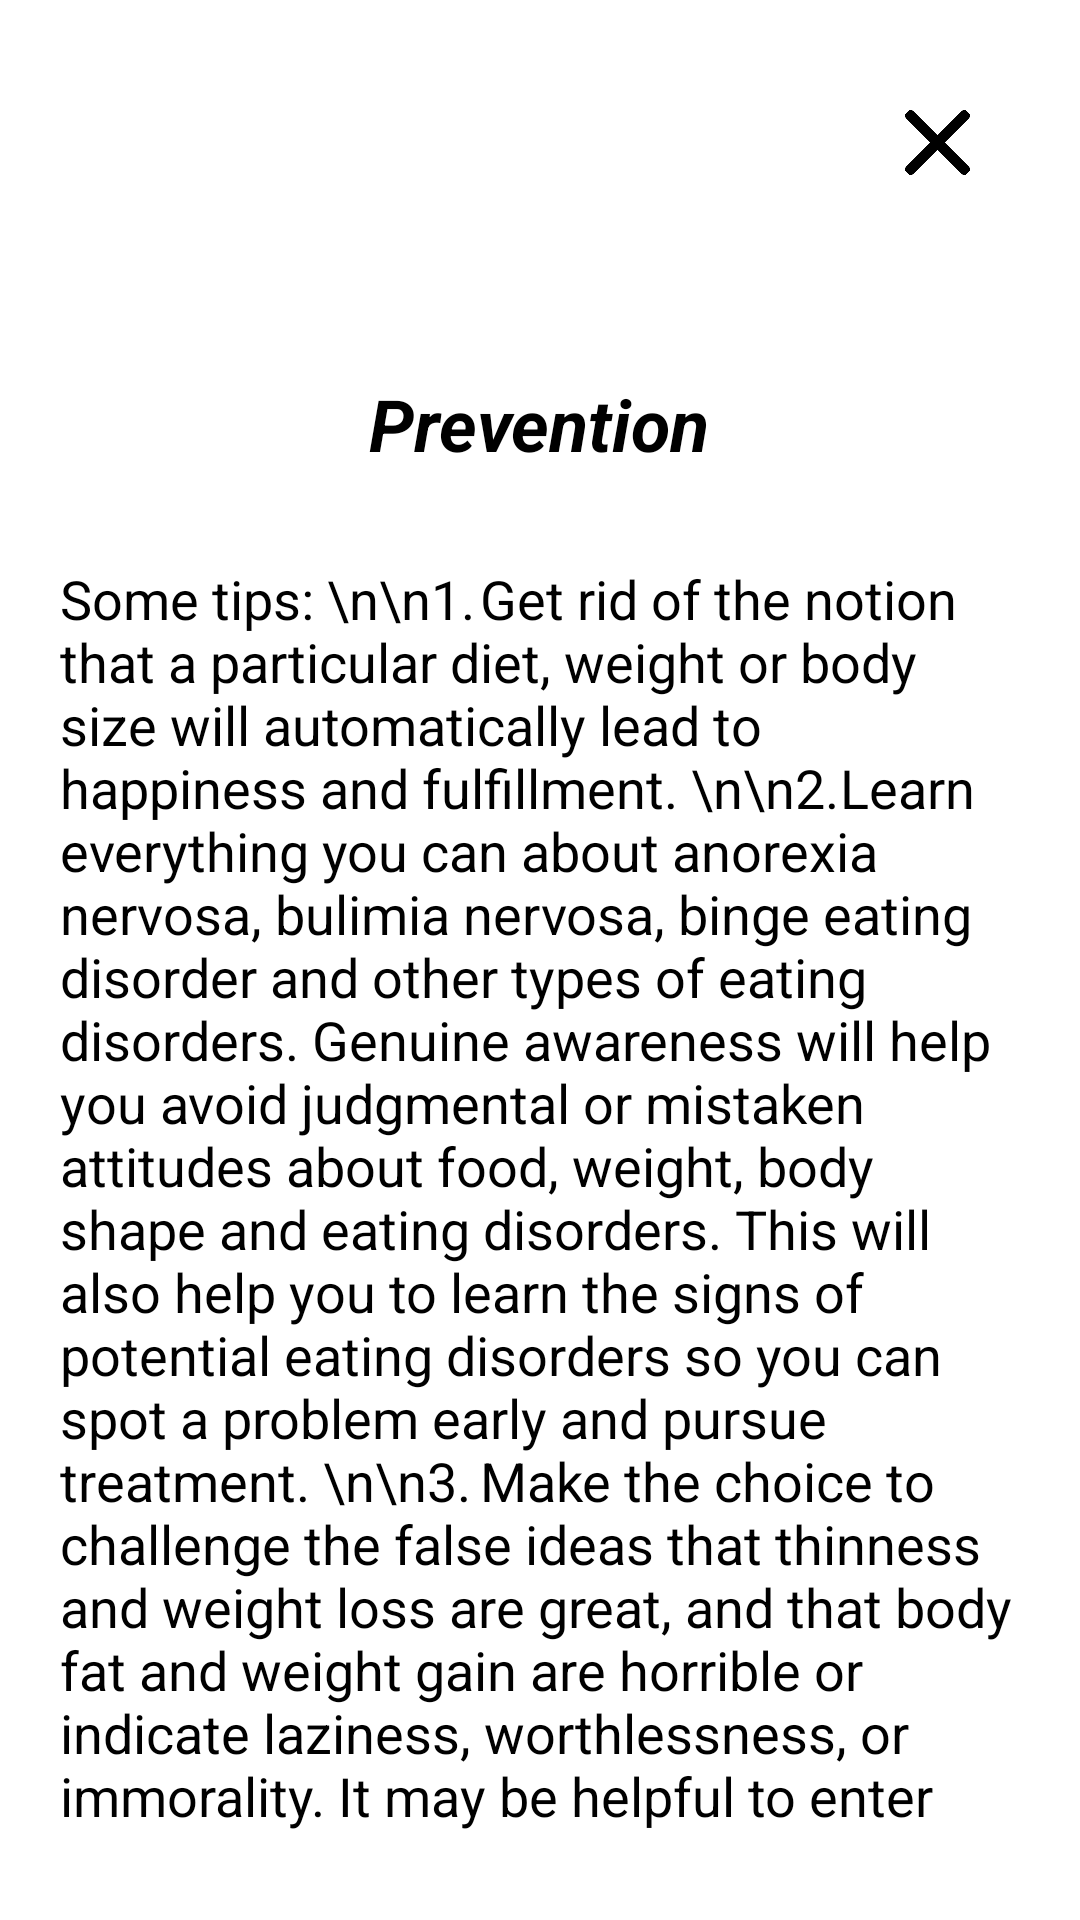

Named icons in this screenshot (1080 × 1920) and their bounding boxes, region(x1, y1, x2, y2):
cancel: region(905, 110, 970, 175)
